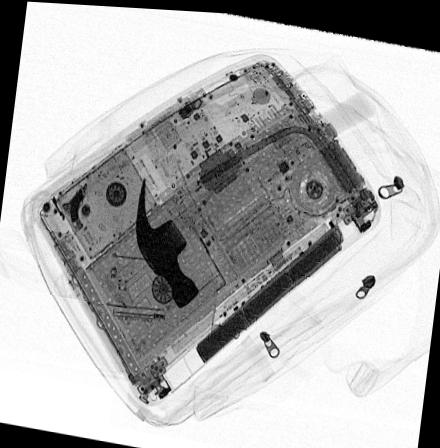Hammer: (134, 86, 375, 305)
